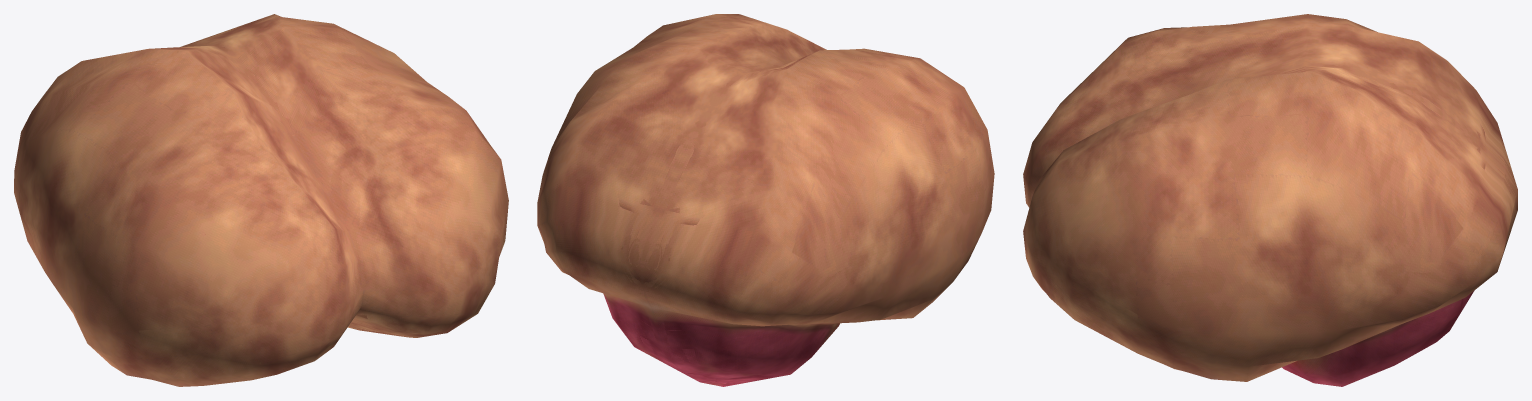
The model's file is Brain.glb.
The picture shows the model from 3 angles, left to right: view 1: azimuth 30°, elevation 25°; view 2: azimuth 150°, elevation 25°; view 3: azimuth 270°, elevation 25°; orthographic projection. The views are drawn at different scales.
Parts seen in each view (by area): view 1: Retopo_Roundcube; view 2: Retopo_Roundcube; view 3: Retopo_Roundcube.
Part boxes in pixels (box(x1,y1,x2,y2)): Retopo_Roundcube: box(14, 14, 508, 386); Retopo_Roundcube: box(537, 14, 994, 386); Retopo_Roundcube: box(1023, 14, 1517, 386).
Size of the model in its own units: 3.82 by 3.17 by 4.26.
Materials: 1 (1 with a texture image).
